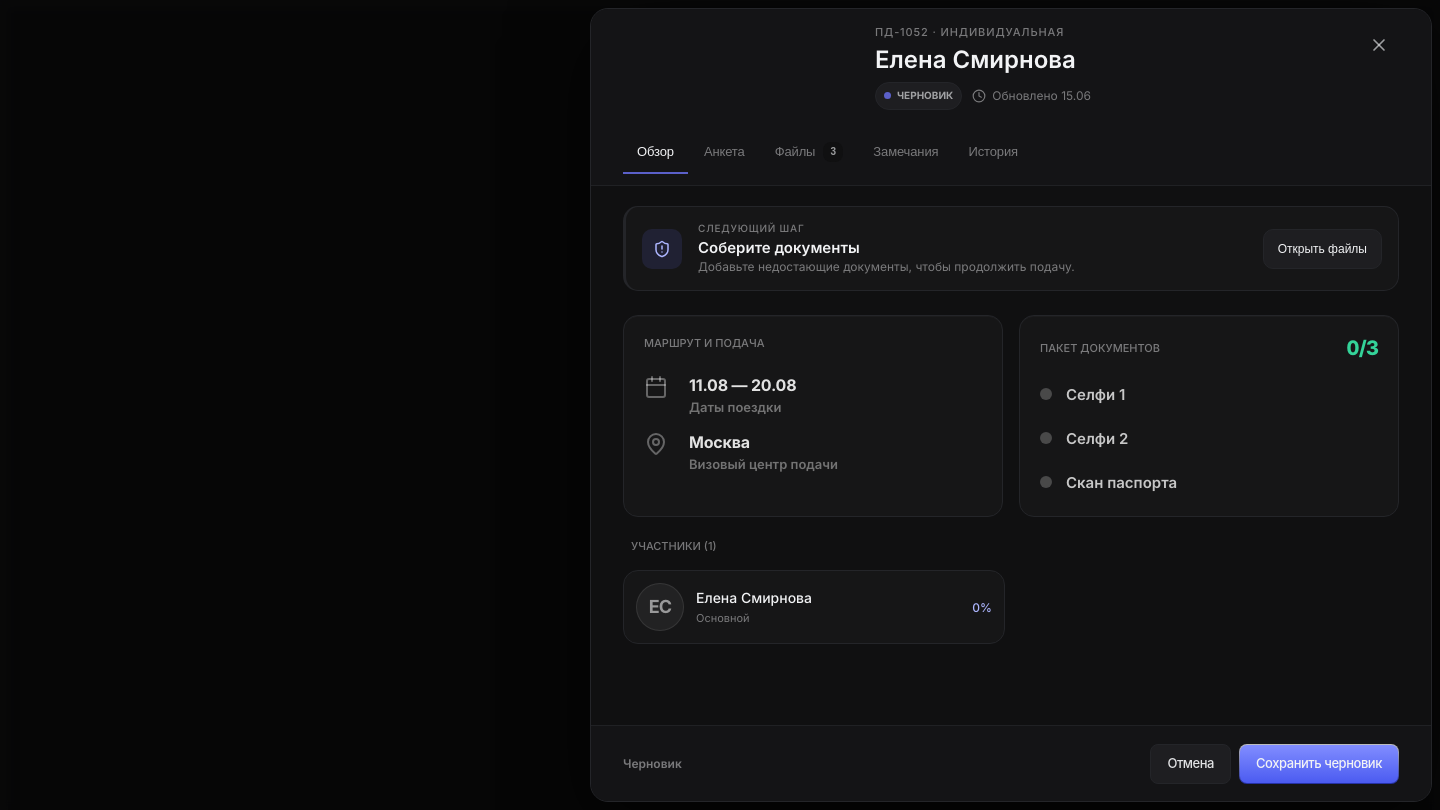
Test: async UI callers › operational drawer catches rejected actions and keeps the action available
Click the button with class "is-primary". click: (1319, 764)
box: [1239, 744, 1399, 784]
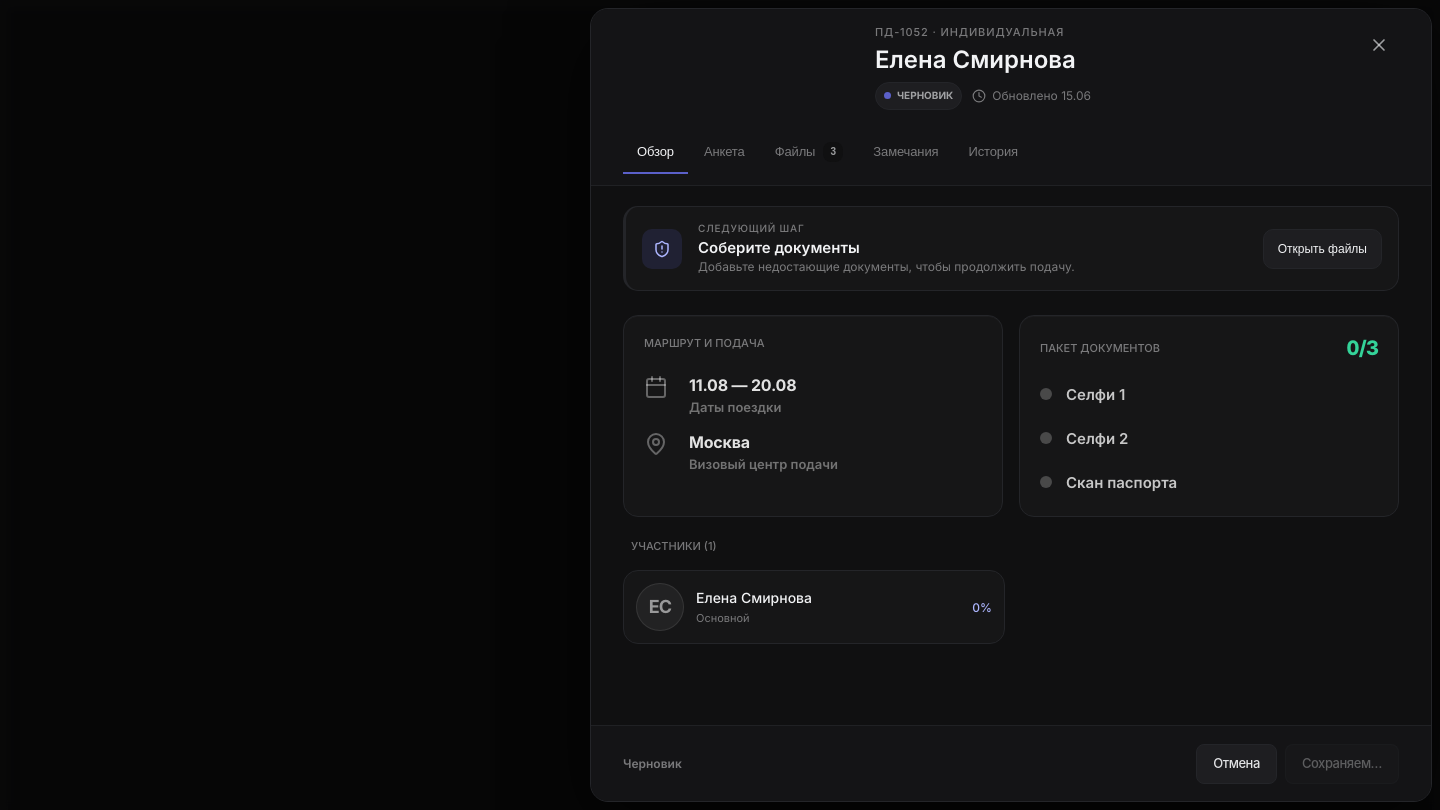
Click the button with class "is-primary". click: (1342, 764)
box: [1285, 744, 1399, 784]
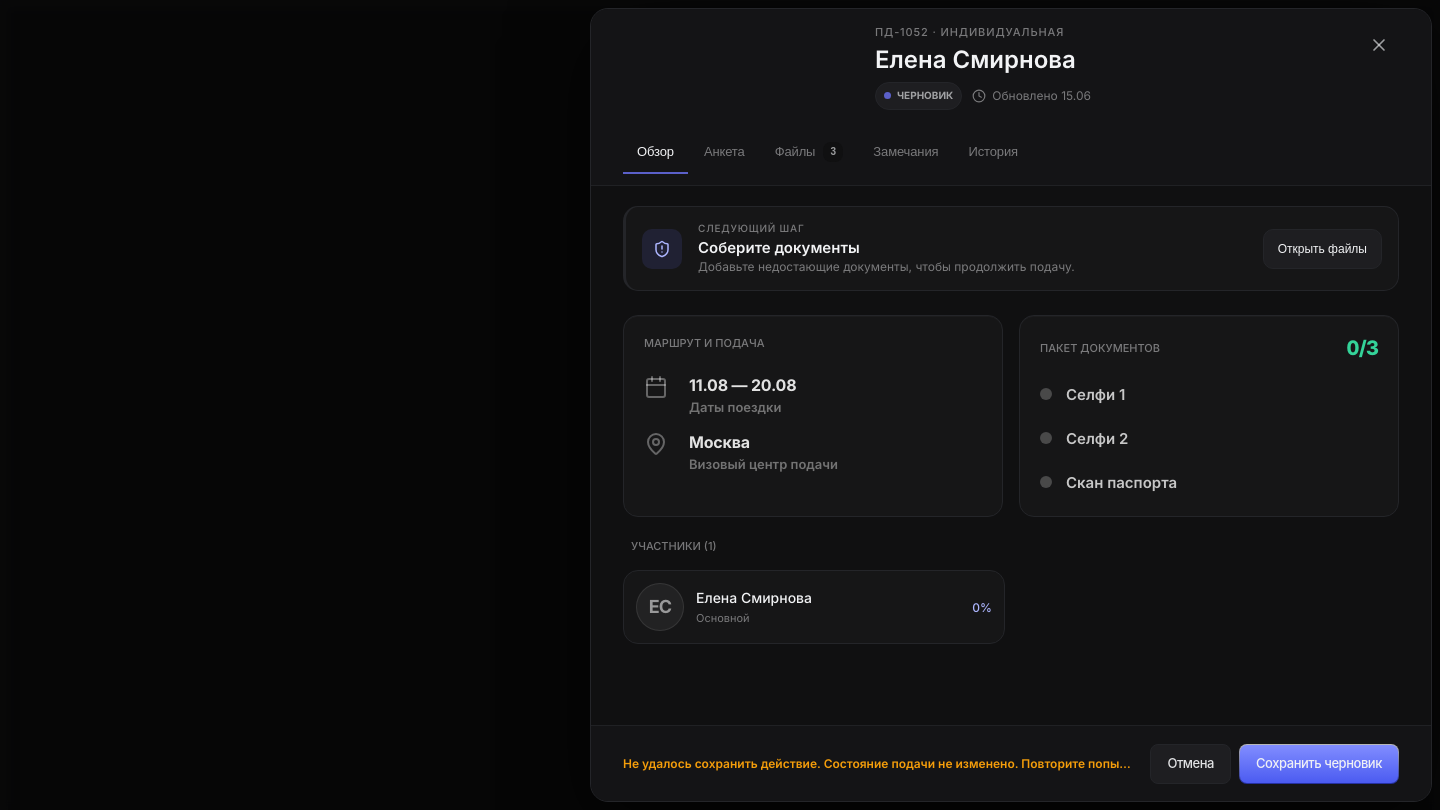
expect the text "Не удалось сохранить действие" is shown: met, box [623, 756, 1143, 771]
expect the button with class "is-primary" is enabled: met, box [1239, 744, 1399, 784]
